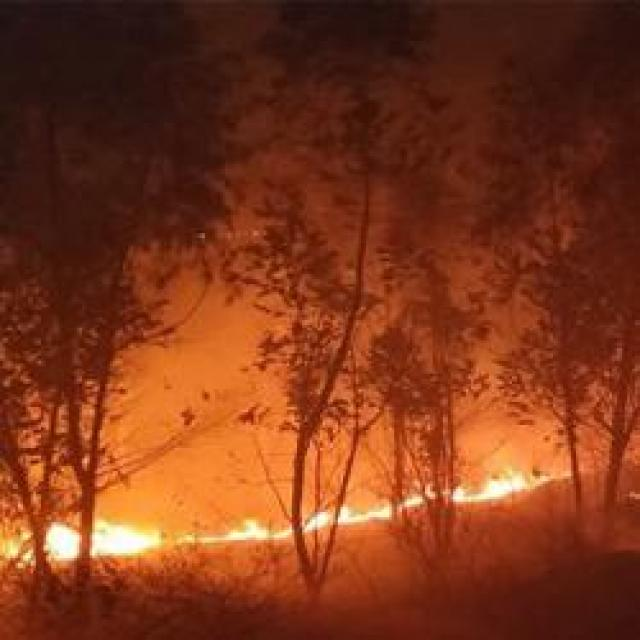fire: (49, 521, 158, 564), (446, 469, 523, 511), (293, 504, 388, 534), (230, 522, 296, 545)
smoke: (129, 449, 251, 533), (119, 345, 208, 459)
